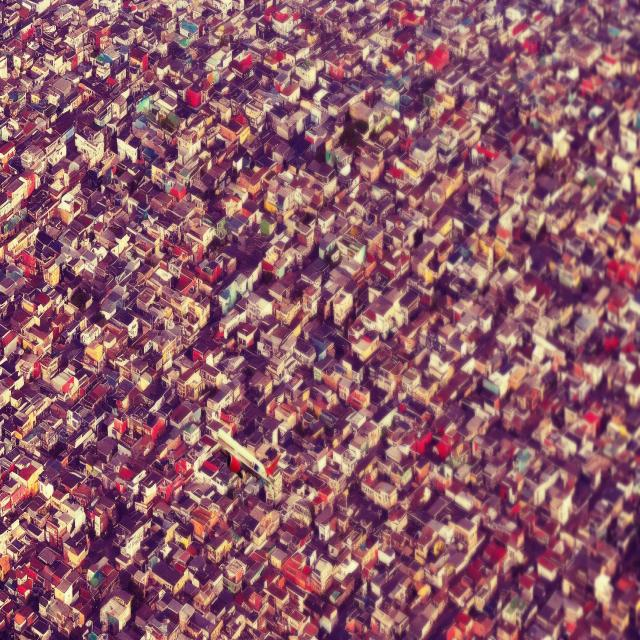airplane: (209, 423, 279, 484)
